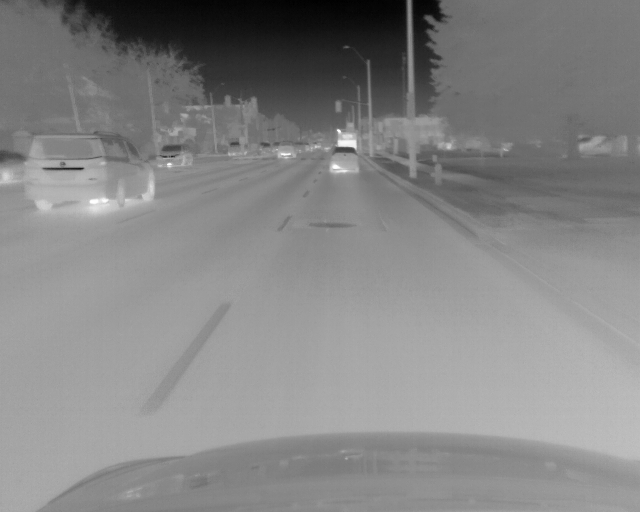car: (27, 134, 156, 209), (155, 143, 193, 169), (1, 149, 27, 186), (327, 146, 361, 173), (334, 127, 358, 150), (224, 138, 243, 158), (276, 139, 296, 158), (260, 142, 274, 156), (296, 141, 312, 153)
